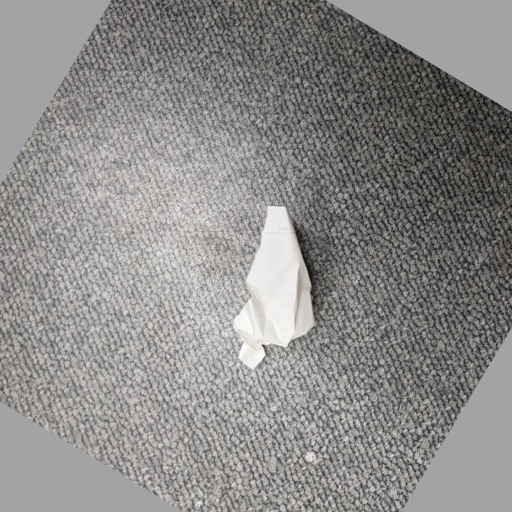Paper_3: (225, 189, 340, 382)
